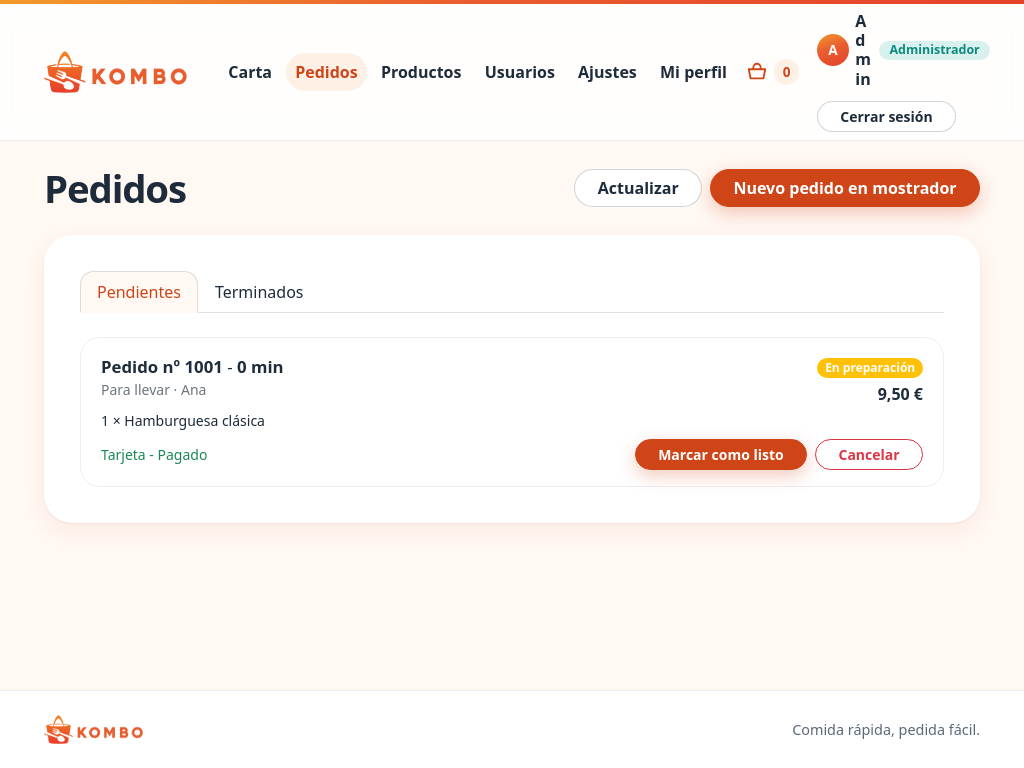
Scenario: OrdersDashboardPage › cancels an order only after the confirmation
Click the button "Cancelar".
click(869, 454)  # box [815,439,923,470]
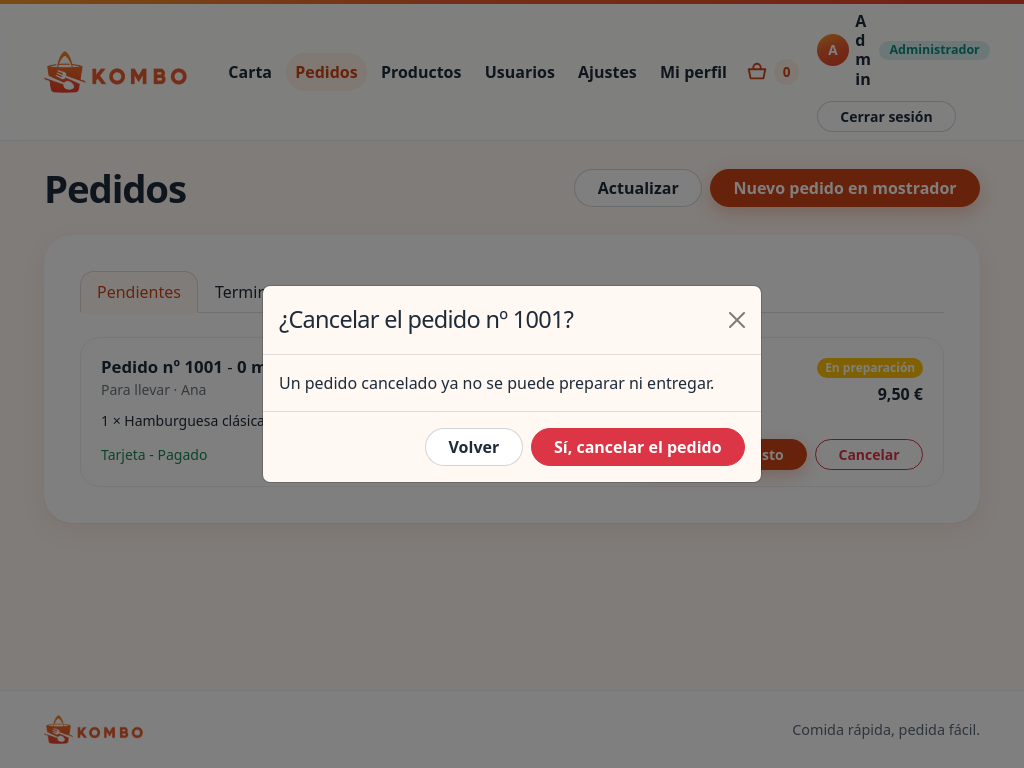
Click the button "Volver".
click(474, 447)  # box [425,428,523,466]
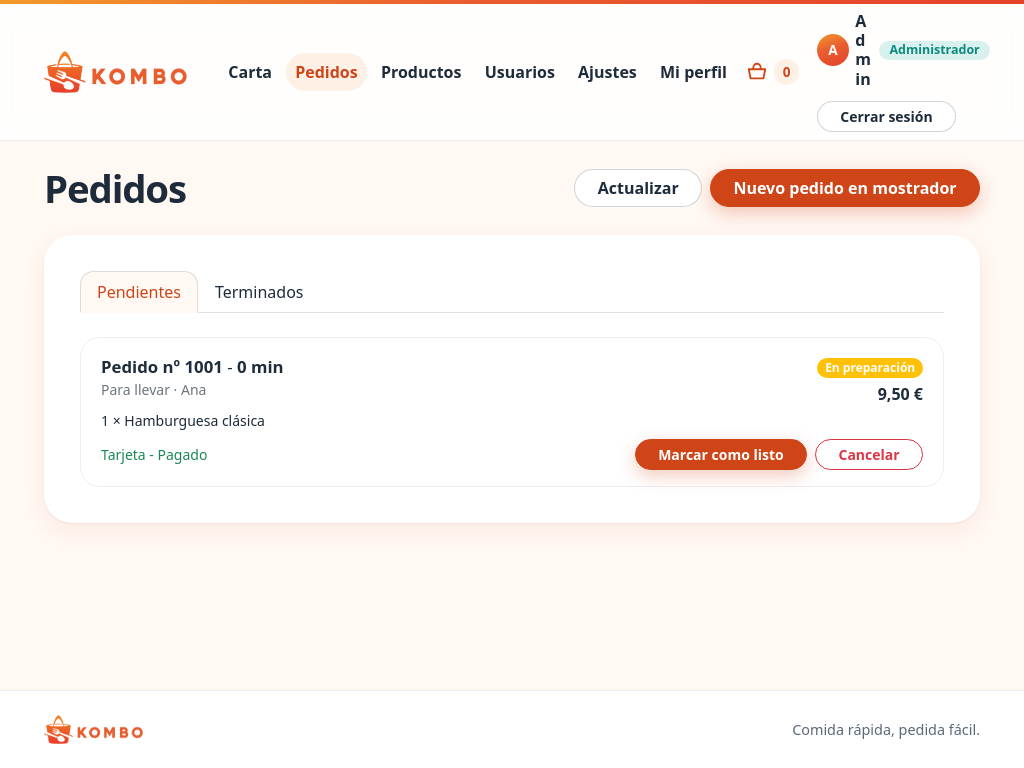
Click the button "Cancelar".
click(869, 454)  # box [815,439,923,470]
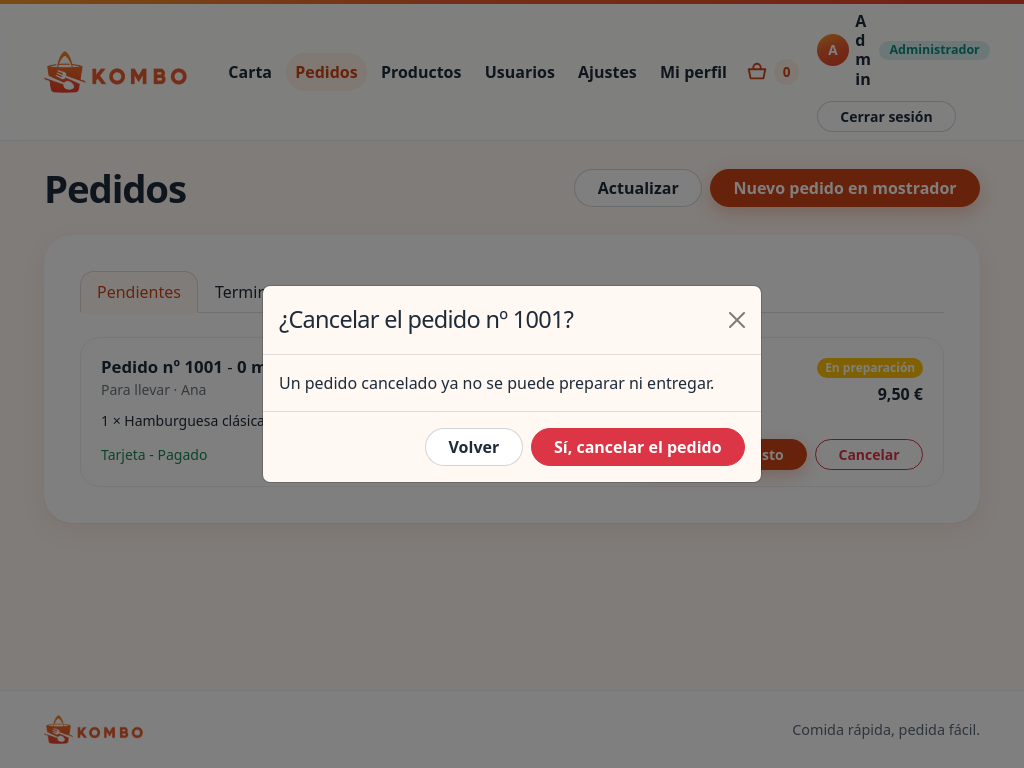
Click the button "Sí, cancelar el pedido".
click(638, 447)  # box [531,428,745,466]
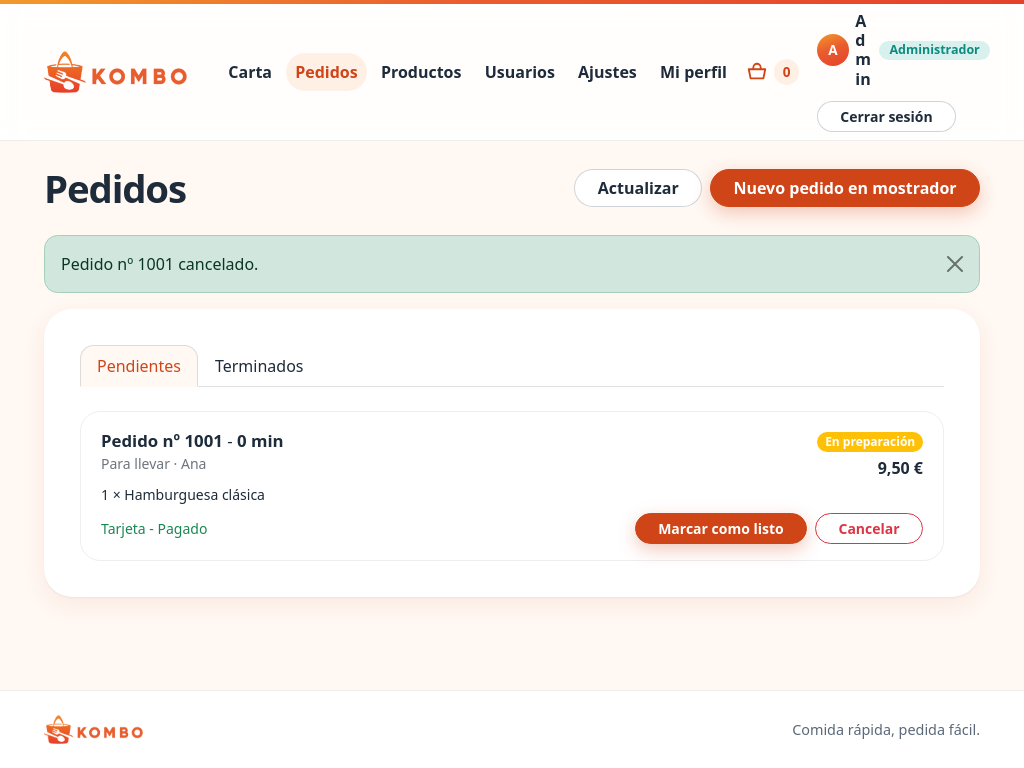
Result: the text "Pedido nº 1001 cancelado." is shown at [44,235,980,293]
